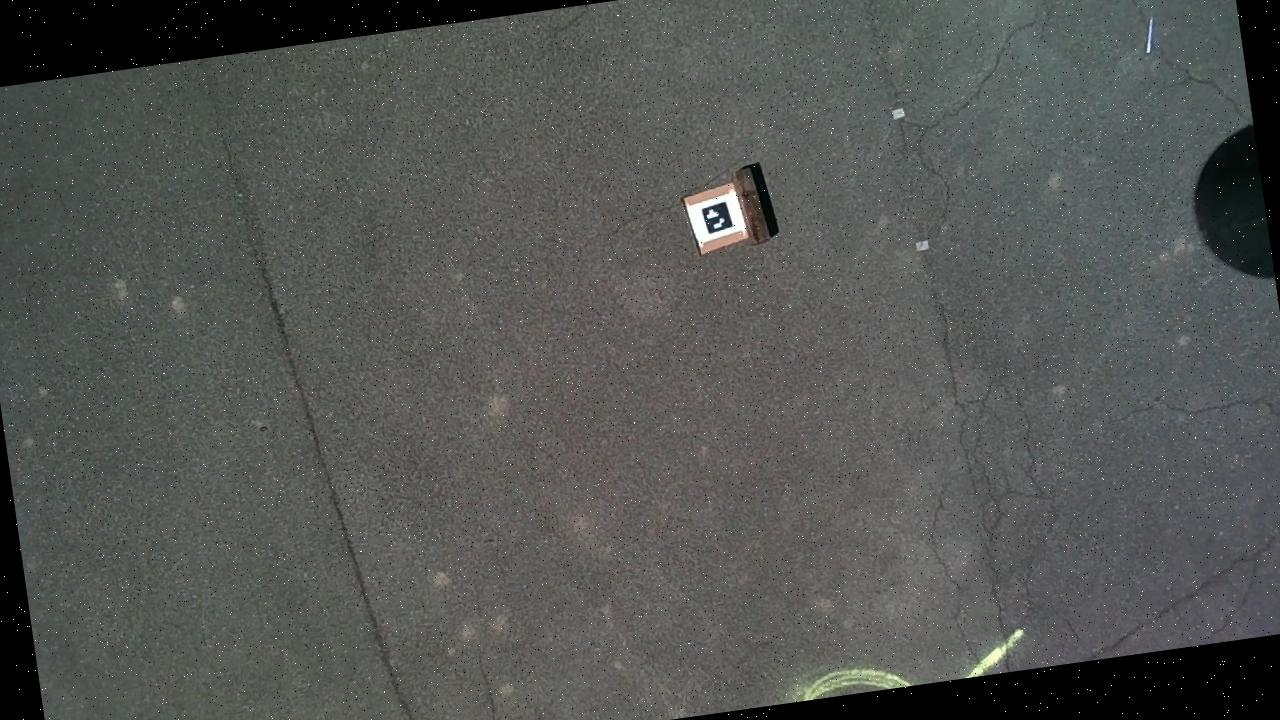probes: (1141, 16, 1156, 54)
